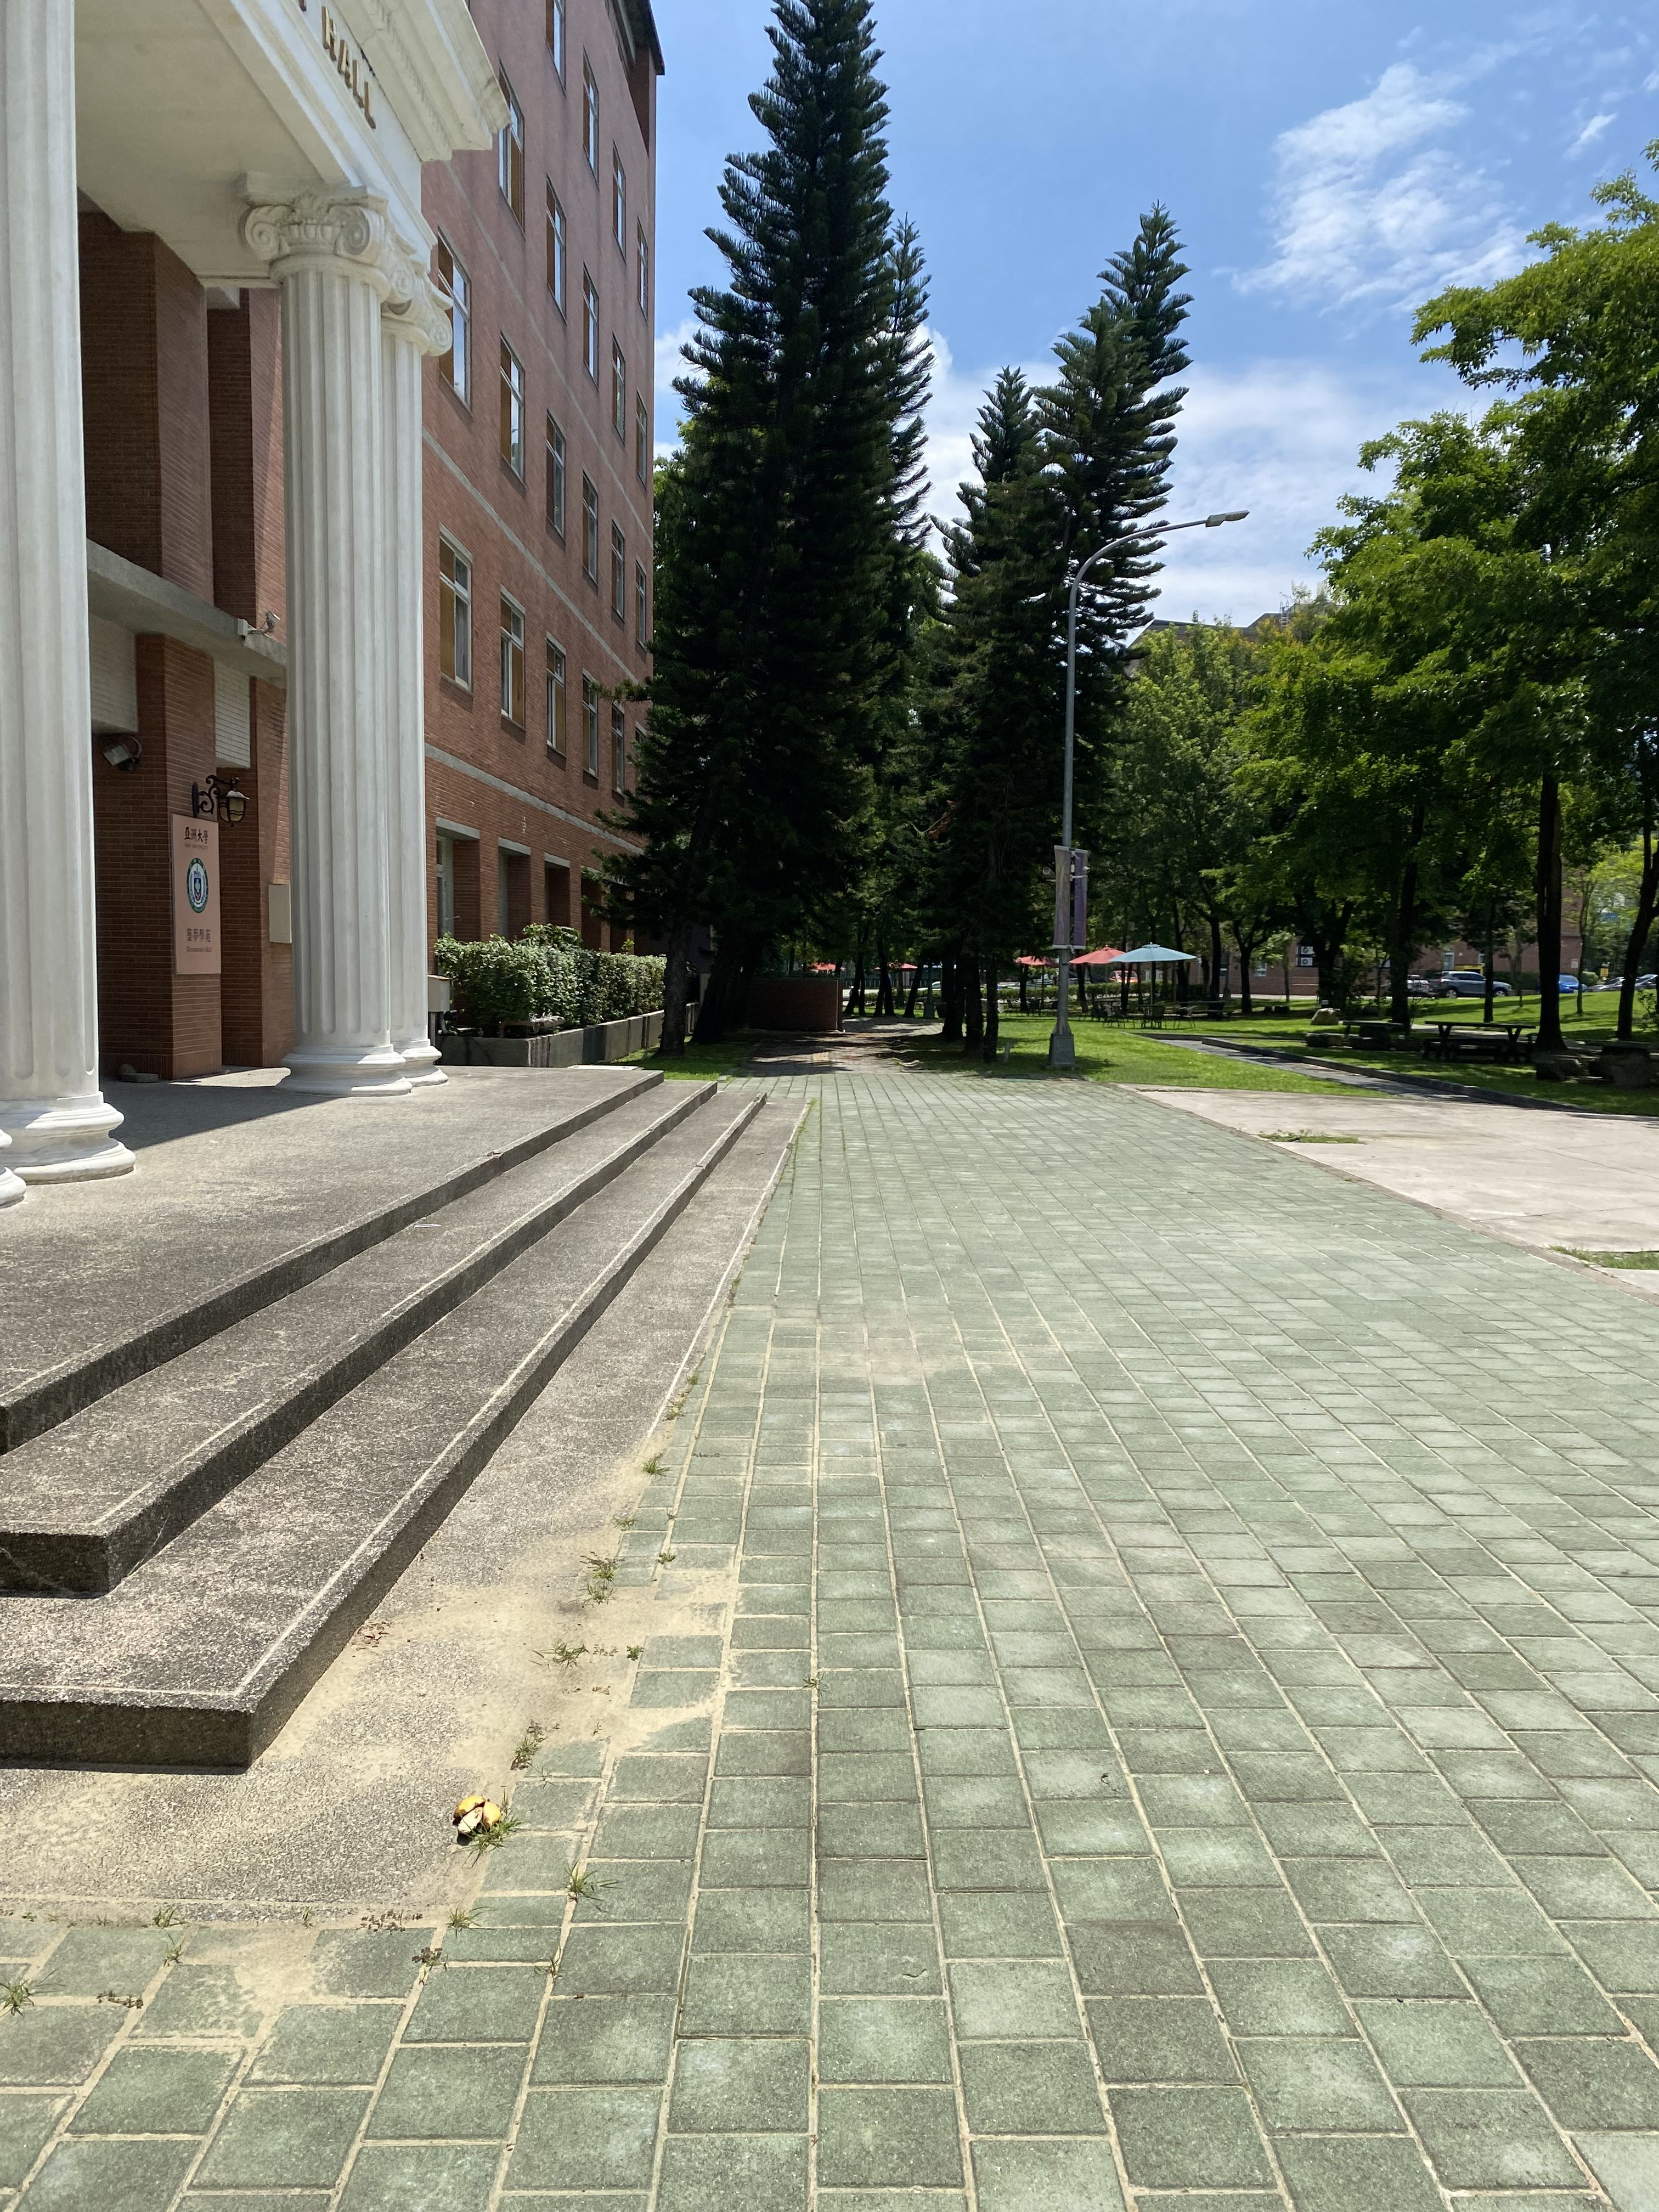0: (5, 1632, 809, 2212)
sidewalk: (648, 1029, 1659, 2212)
